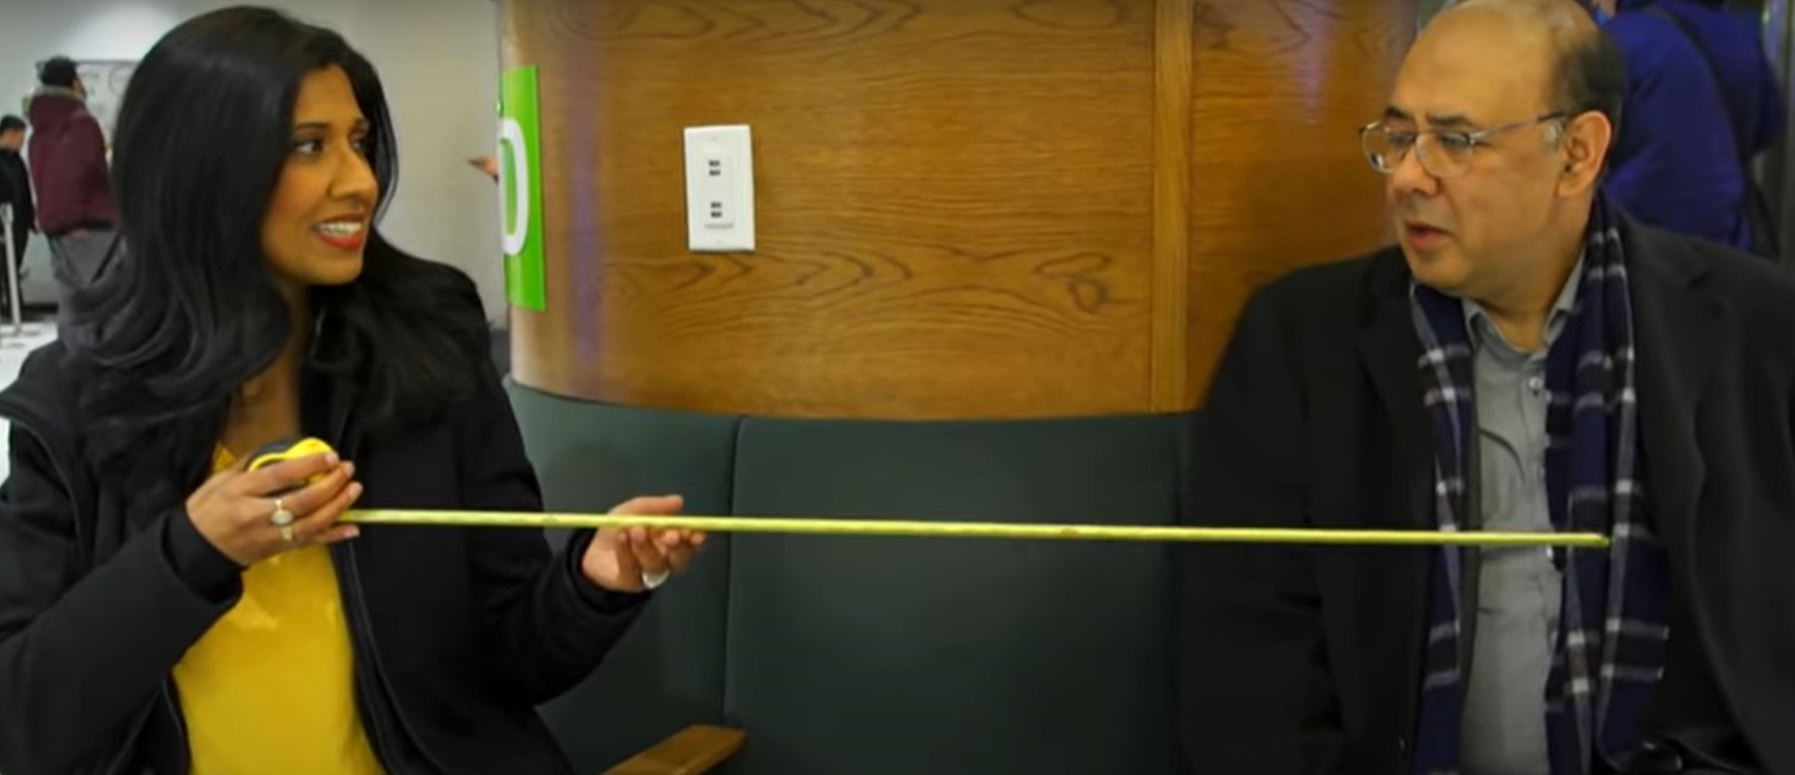Caution: (5, 1, 1789, 768)
